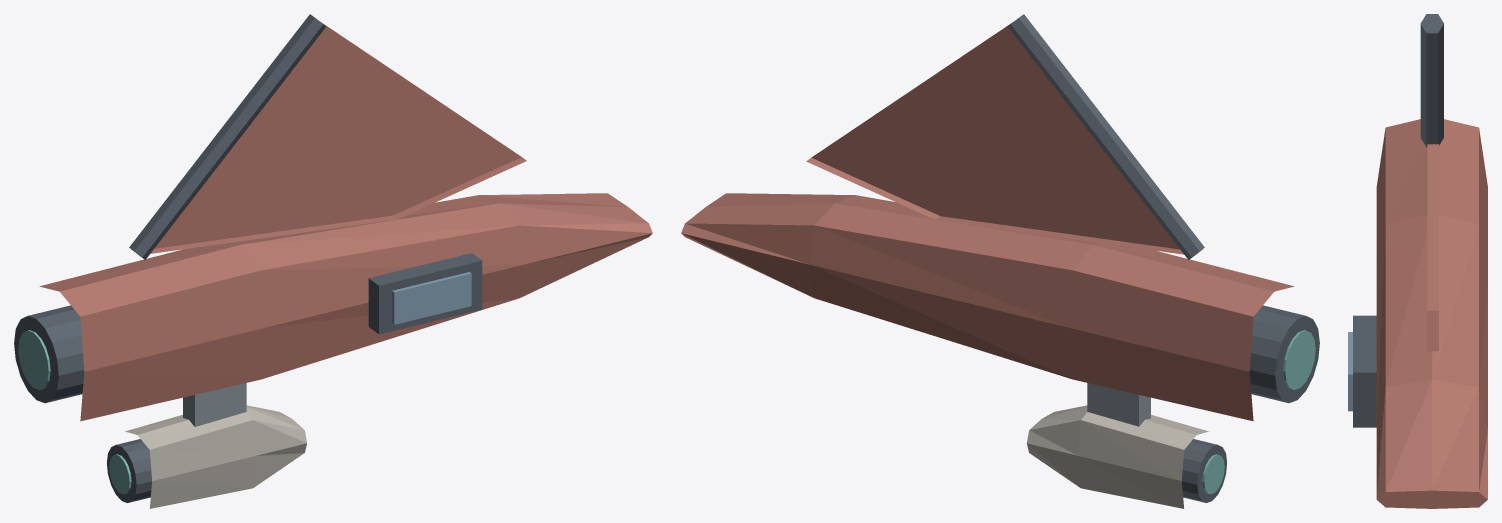
The model's file is 05_red_kite.glb.
3 views of the same model, side by side, from view 1: azimuth 30°, elevation 25°; view 2: azimuth 150°, elevation 25°; view 3: azimuth 270°, elevation 25° (orthographic). The views are drawn at different scales.
Parts seen in each view (by area): view 1: HULL_001, part_002, HULL_005, part_003, part_008, part_010, part_011, part_004, part_006, part_009; view 2: HULL_001, part_002, HULL_005, part_003, part_008, part_004, part_006, part_009; view 3: HULL_001, part_003, part_010, part_002, part_011.
Part boxes in pixels (<box>): HULL_001: <box>39,193,652,421</box>; part_002: <box>150,22,526,253</box>; HULL_005: <box>125,405,307,508</box>; part_003: <box>129,14,325,259</box>; part_008: <box>14,305,84,403</box>; part_010: <box>368,253,482,334</box>; part_011: <box>392,272,471,324</box>; part_004: <box>183,383,246,426</box>; part_006: <box>107,439,151,502</box>; part_009: <box>18,330,50,389</box>; HULL_001: <box>681,193,1294,421</box>; part_002: <box>806,22,1183,254</box>; HULL_005: <box>1026,405,1208,508</box>; part_003: <box>1008,14,1204,259</box>; part_008: <box>1249,305,1319,403</box>; part_004: <box>1087,383,1150,426</box>; part_006: <box>1182,439,1226,502</box>; part_009: <box>1283,330,1315,389</box>; HULL_001: <box>1376,119,1487,508</box>; part_003: <box>1420,14,1443,147</box>; part_010: <box>1353,315,1376,427</box>; part_002: <box>1427,144,1438,351</box>; part_011: <box>1348,332,1352,411</box>.
Bounding box in the file's own units: 23.02 × 16.71 × 4.15.
